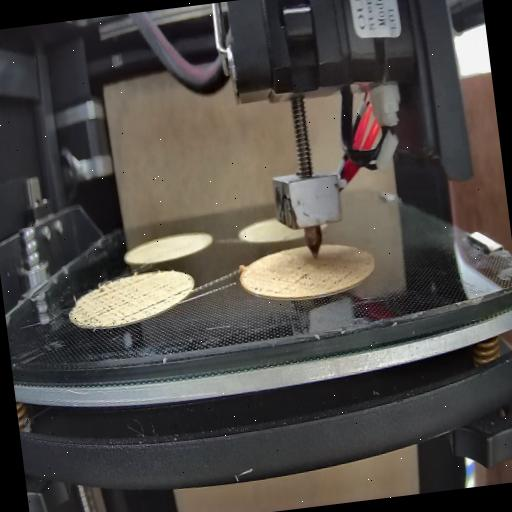under_extrusion: (250, 255, 361, 299), (82, 274, 173, 326), (172, 279, 195, 299)
